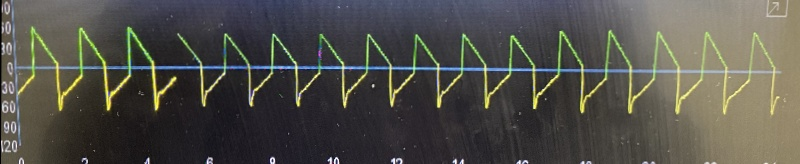peepi: (15, 25, 775, 113)
